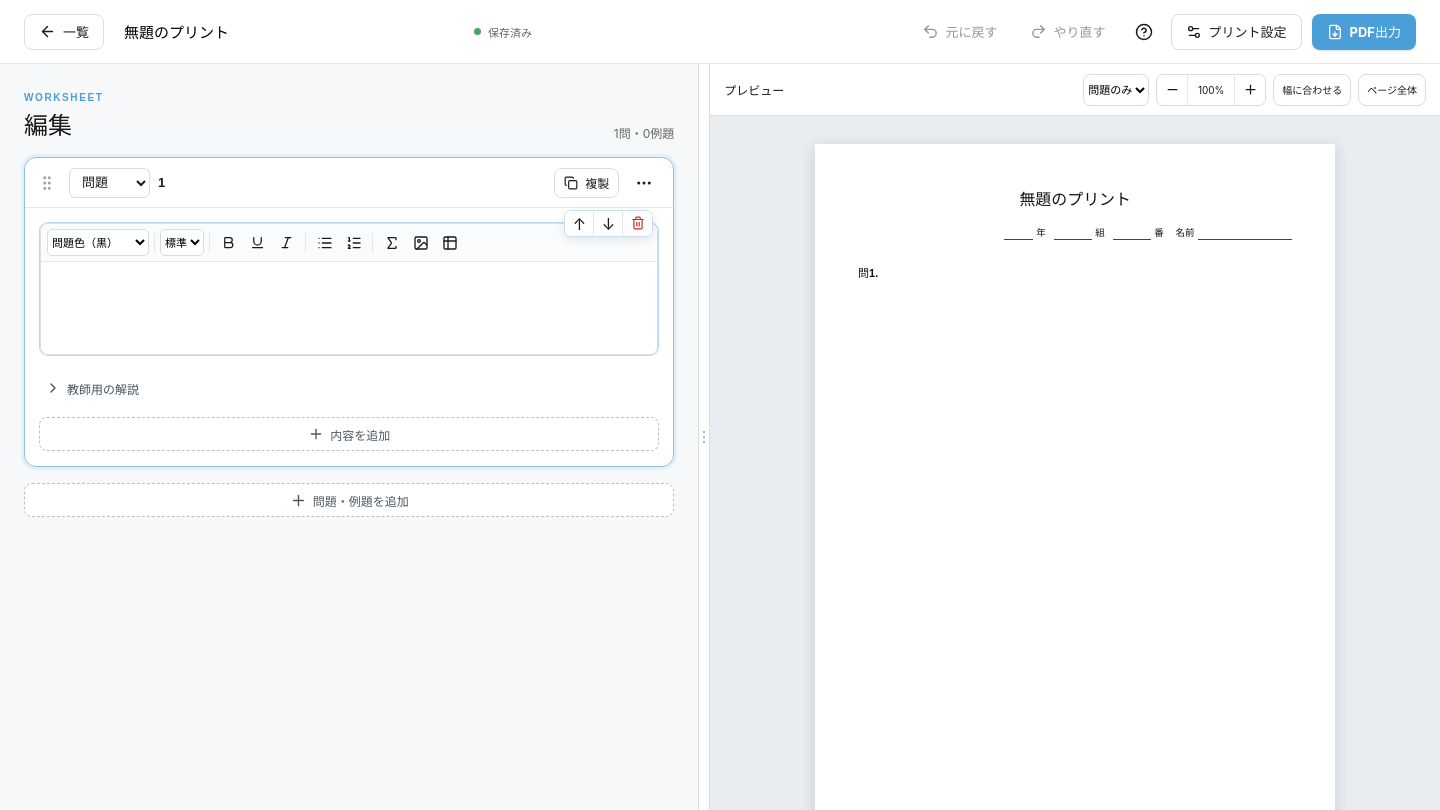
Test case: EditorScreen 離脱・保存統合 › dirtyとsavingではbeforeunloadを阻止してタブ終了・リロード警告を要求する
Replace the text in the field named "プリント題名" with "未保存の変更" at {"x": 289, "y": 32}, box [114,14,464,50]
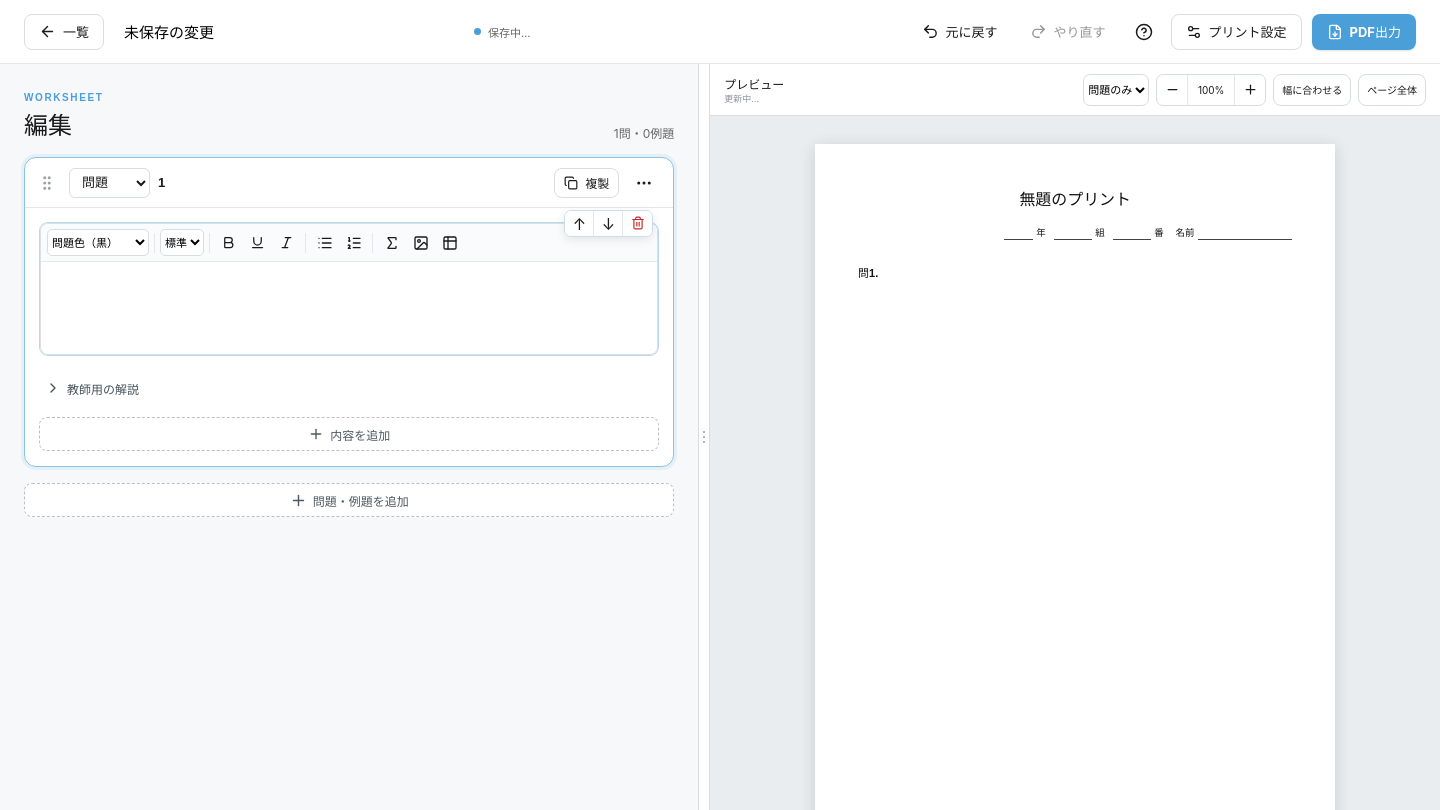
Check: the text "保存中…" is shown, box [474,24,530,40]
